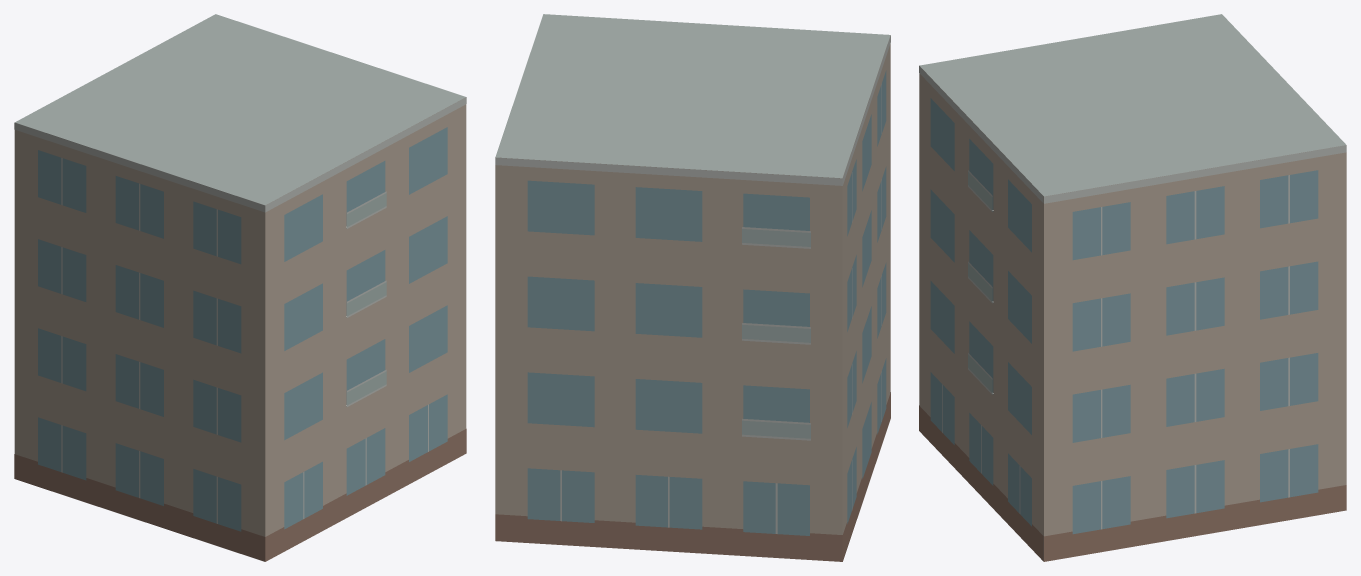
File: residential-0c396c88-2550-4f3f-9470-32cae6c6c2fc.glb
3 renders of one model, left to right at view 1: azimuth 30°, elevation 25°; view 2: azimuth 150°, elevation 25°; view 3: azimuth 270°, elevation 25°, orthographic. The views are drawn at different scales.
Visible parts, largest first — view 1: residential-0c396c88-2550-4f3f-9470-32cae6c6c2fc.tmp; view 2: residential-0c396c88-2550-4f3f-9470-32cae6c6c2fc.tmp; view 3: residential-0c396c88-2550-4f3f-9470-32cae6c6c2fc.tmp.
Boxes of the visible parts, bbox=[...] form: residential-0c396c88-2550-4f3f-9470-32cae6c6c2fc.tmp: bbox=[14, 14, 466, 561]; residential-0c396c88-2550-4f3f-9470-32cae6c6c2fc.tmp: bbox=[495, 14, 890, 561]; residential-0c396c88-2550-4f3f-9470-32cae6c6c2fc.tmp: bbox=[919, 14, 1346, 561].
Size of the model in its own units: 13.08 by 12.2 by 12.95.
